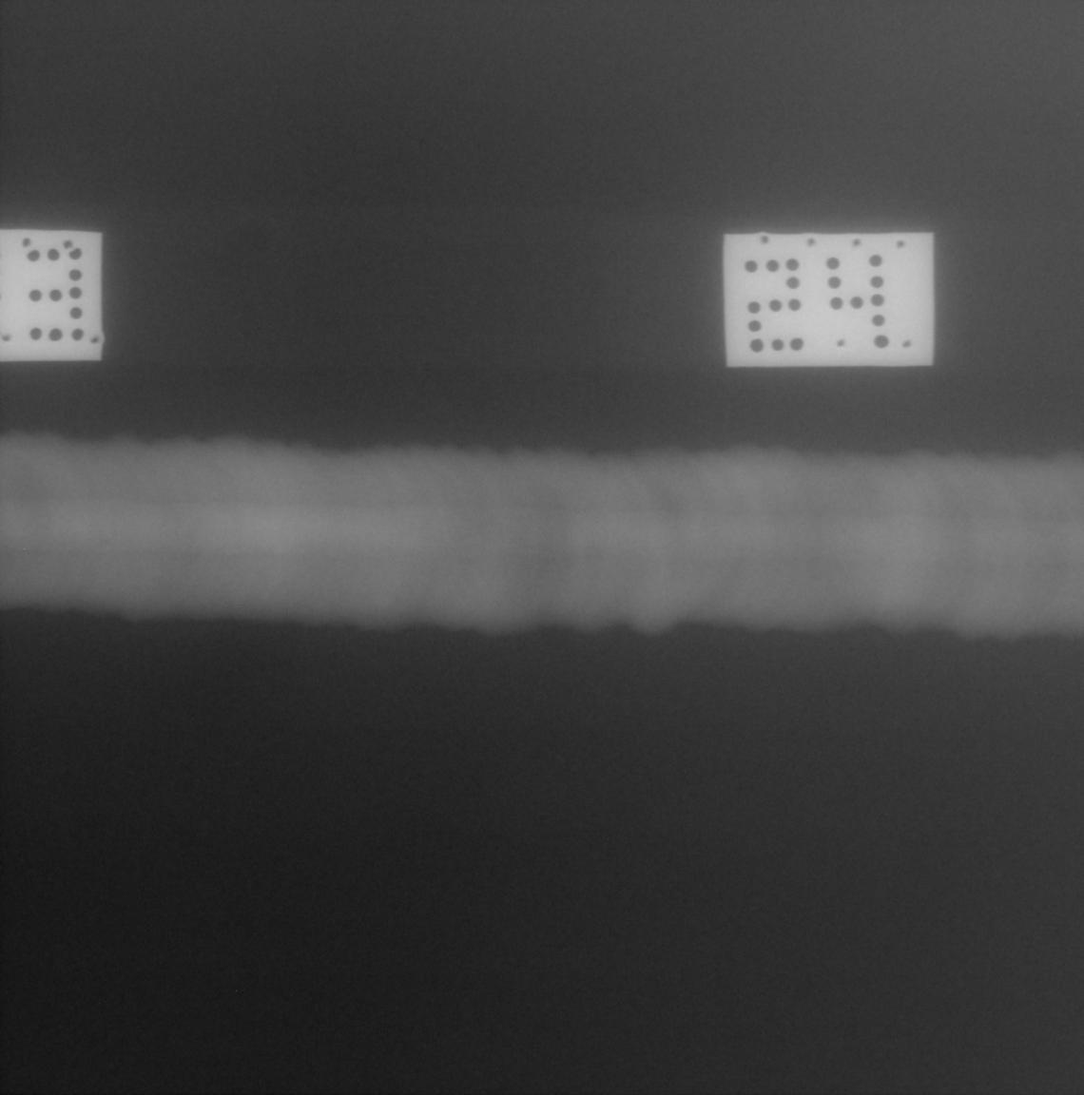Pore/Porosity: (100, 539, 110, 545)
